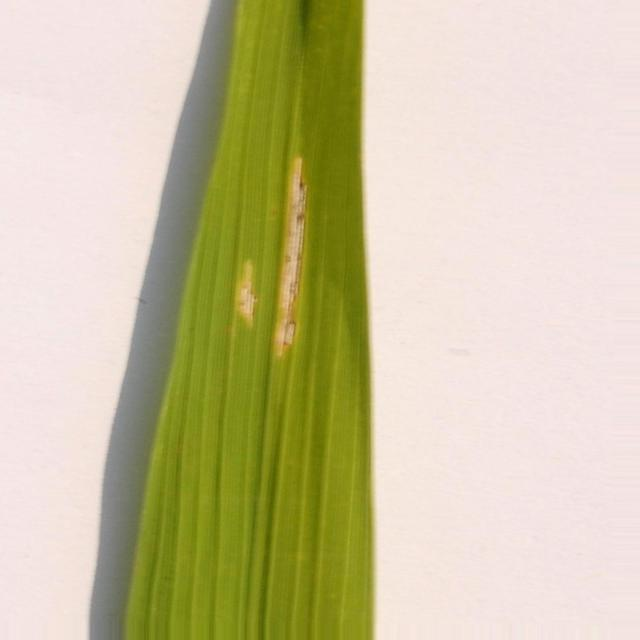Bacterial_Leaf_Blight: (274, 156, 308, 356), (236, 260, 258, 324)
